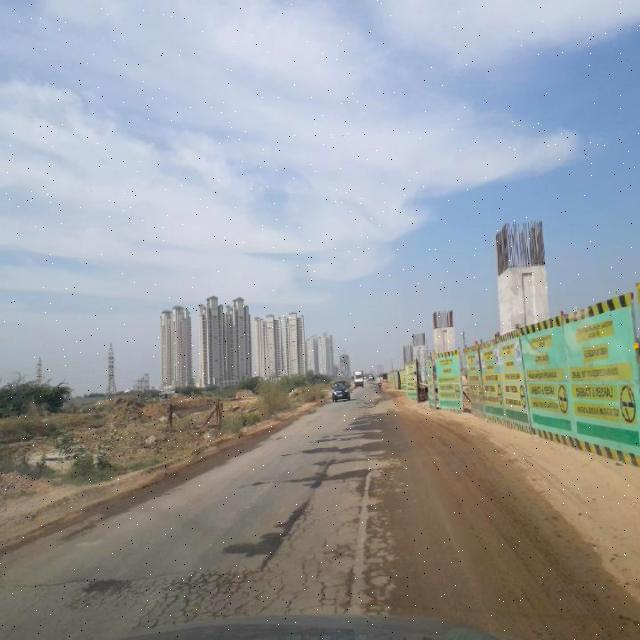D10: (2, 563, 265, 597)
D20: (58, 470, 408, 630)
